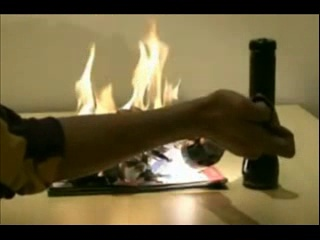fire: (122, 17, 180, 113), (71, 41, 120, 115)
